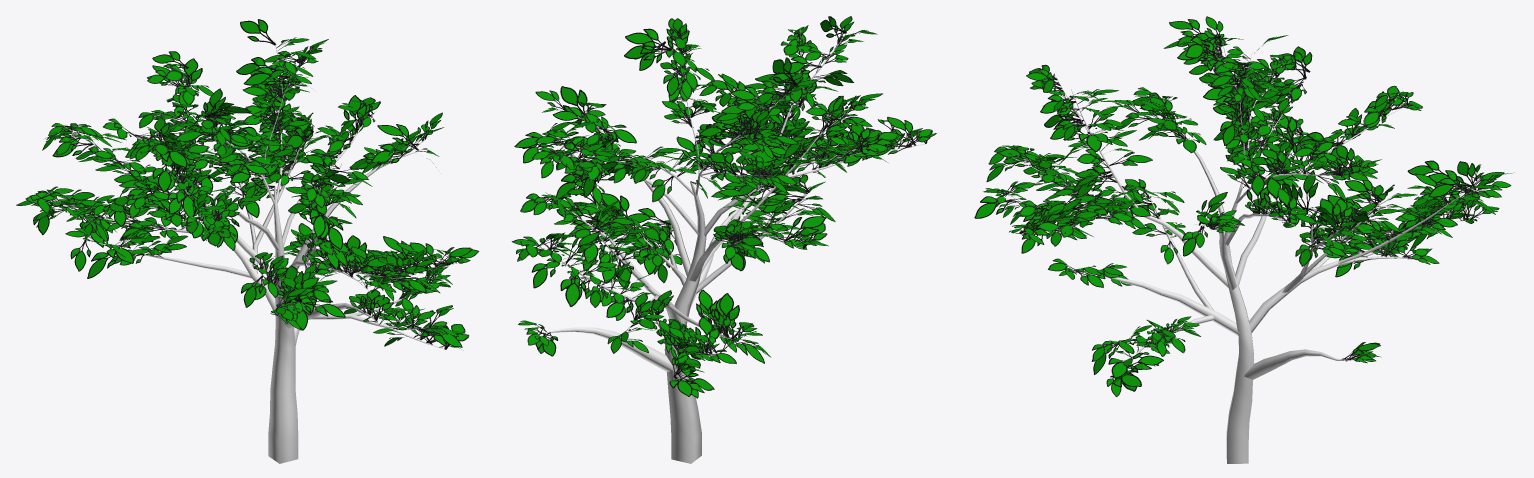
Rendered from Tree06.fbx.
3 renders of one model, left to right at view 1: azimuth 30°, elevation 25°; view 2: azimuth 150°, elevation 25°; view 3: azimuth 270°, elevation 25°, orthographic. The views are drawn at different scales.
Parts seen in each view (by area): view 1: Tree.001; view 2: Tree.001, leafs|Plane|Dupli|404, leafs|Plane|Dupli|386, leafs|Plane|Dupli|505, leafs|Plane|Dupli|273, leafs|Plane|Dupli|359; view 3: Tree.001.
Part boxes in pixels (bbox=[...]): Tree.001: bbox=[47, 44, 458, 463]; Tree.001: bbox=[537, 27, 925, 463]; leafs|Plane|Dupli|404: bbox=[625, 28, 670, 50]; leafs|Plane|Dupli|386: bbox=[783, 216, 826, 241]; leafs|Plane|Dupli|505: bbox=[714, 293, 739, 336]; leafs|Plane|Dupli|273: bbox=[560, 86, 587, 117]; leafs|Plane|Dupli|359: bbox=[560, 275, 586, 306]; Tree.001: bbox=[997, 36, 1477, 463].
Bounding box in the file's own units: 2061 × 2616 × 3100.
